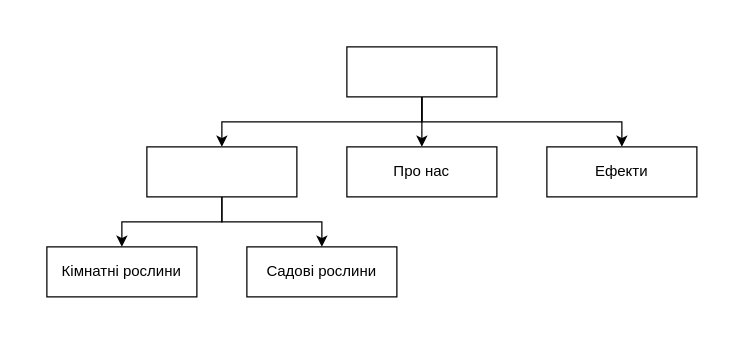
The diagram is 743 pixels wide and 343 high, and some of its shapes have lost their labels. Here are the shapes that lost their labels. From the top down, the centre of each, then its label:
the point at 421,71: Головна
the point at 221,171: Статті
